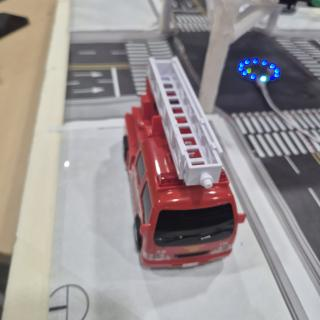Fire_truck: (123, 57, 245, 267)
